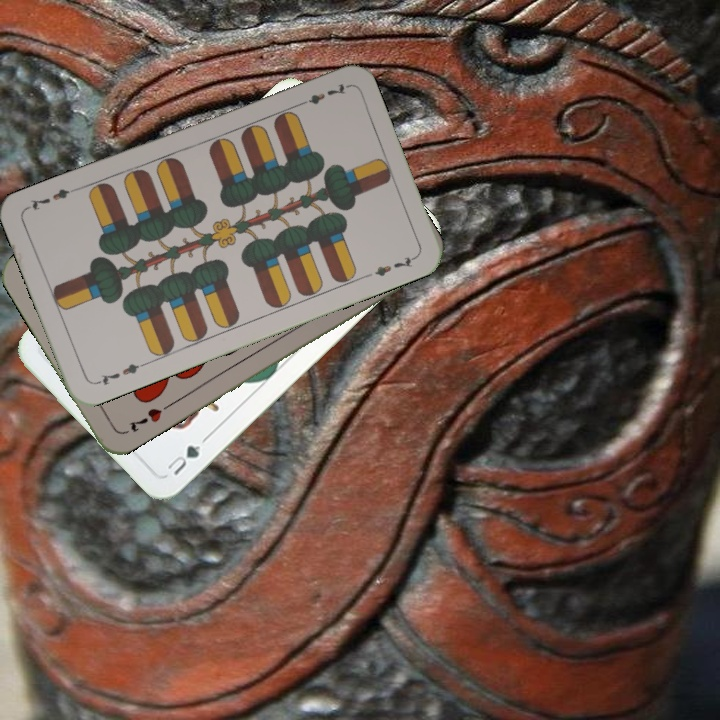E7: (293, 79, 350, 109), (91, 359, 148, 388)
GU: (163, 441, 204, 478)
H7: (124, 404, 165, 435)
